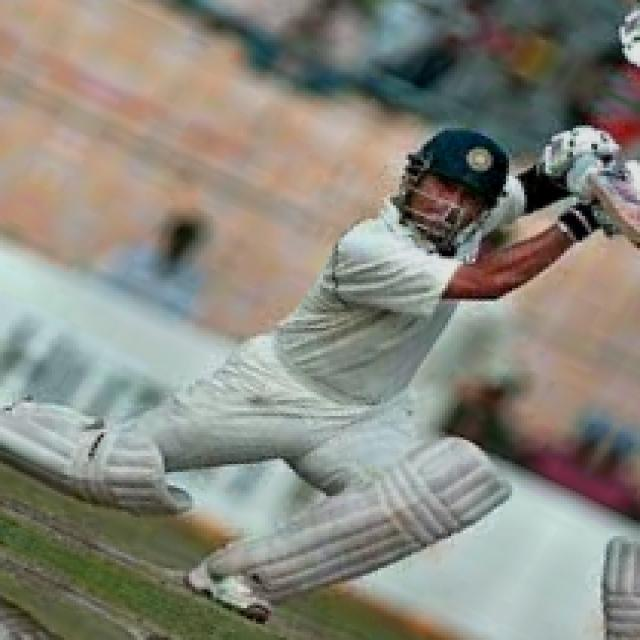bat: (593, 166, 640, 247)
